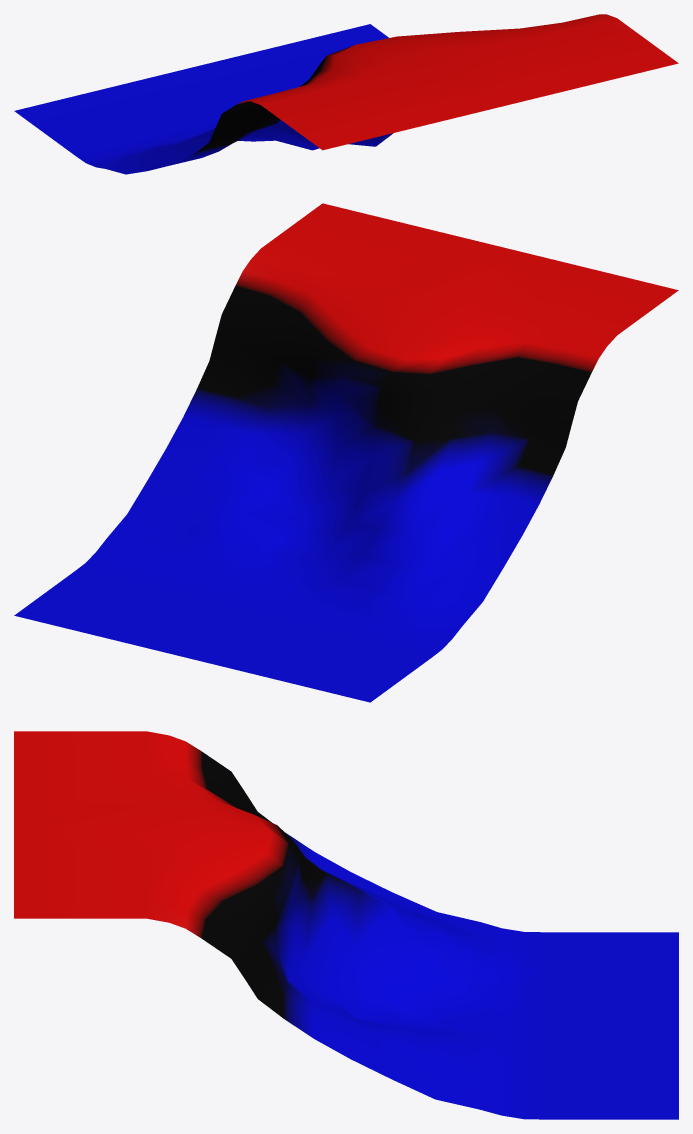
Rendered from RiverBank01B Background.fbx.
The picture shows the model from 3 angles, top to bottom: view 1: azimuth 30°, elevation 25°; view 2: azimuth 150°, elevation 25°; view 3: azimuth 270°, elevation 25°; orthographic projection. The views are drawn at different scales.
Visible parts, largest first — view 1: RiverBank01B Background; view 2: RiverBank01B Background; view 3: RiverBank01B Background.
Boxes of the visible parts, left/top/right/bottom form: RiverBank01B Background: left=14, top=14, right=678, bottom=174; RiverBank01B Background: left=14, top=203, right=678, bottom=702; RiverBank01B Background: left=14, top=731, right=678, bottom=1119.
Bounding box in the file's own units: 2 × 1 × 3.
